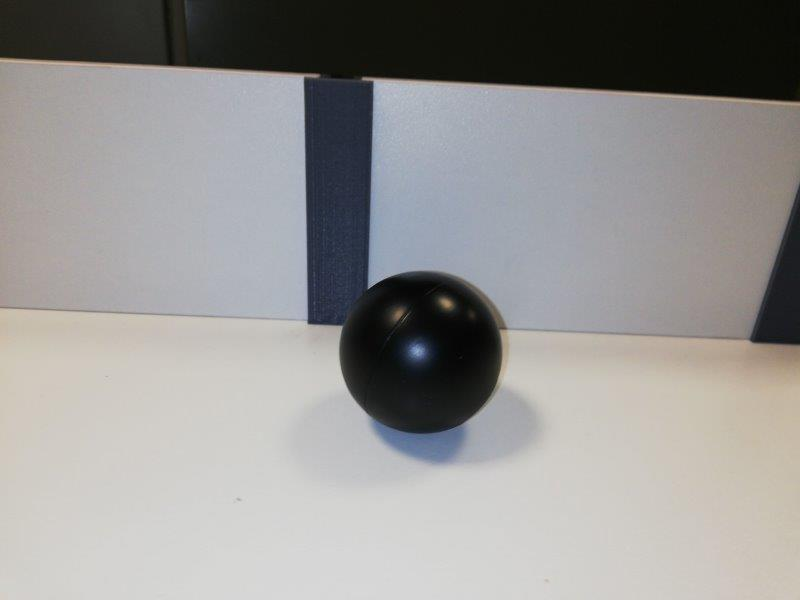nera: (337, 269, 504, 432)
